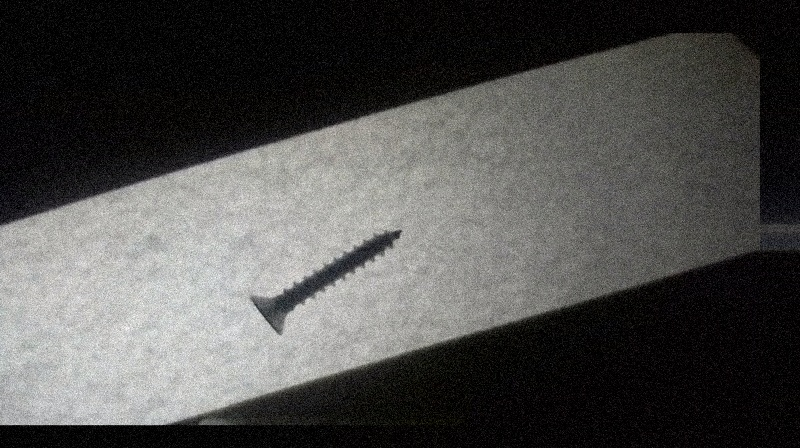S001: (247, 225, 404, 337)
